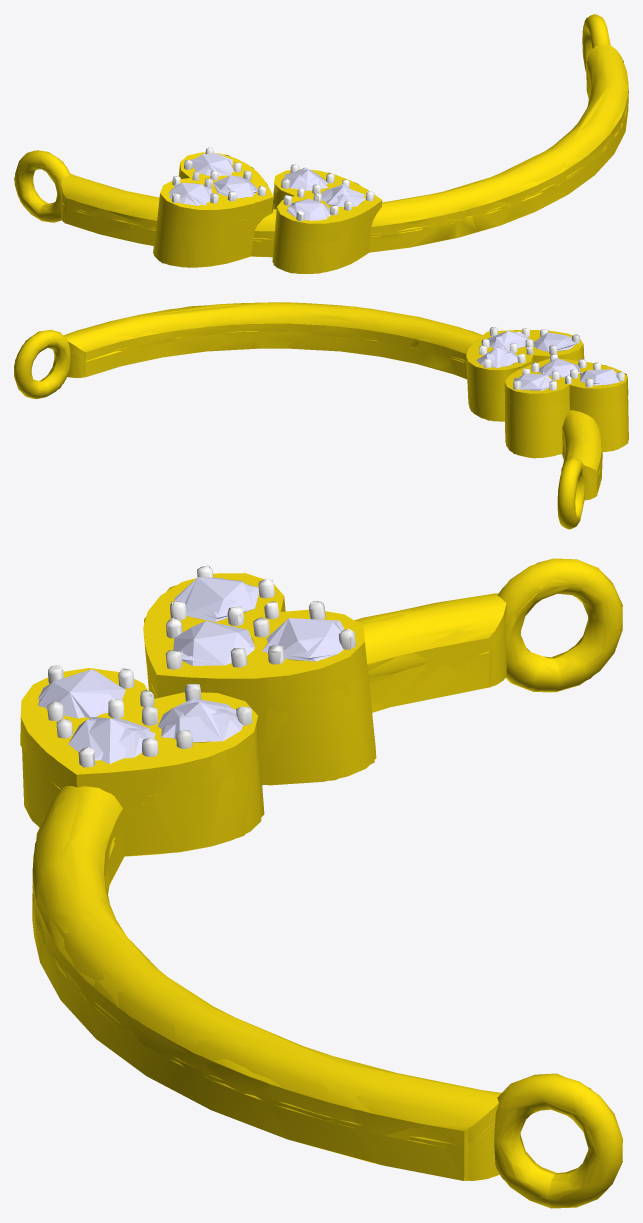
The model's file is DCP-D000587369.glb.
3 renders of one model, top to bottom at view 1: azimuth 30°, elevation 25°; view 2: azimuth 150°, elevation 25°; view 3: azimuth 270°, elevation 25°, orthographic. The views are drawn at different scales.
Visible parts, largest first — view 1: highPolyMesh, lowPolyMesh; view 2: lowPolyMesh, highPolyMesh; view 3: highPolyMesh, lowPolyMesh.
Part boxes in pixels (<box>): highPolyMesh: <box>14,14,628,273</box>; lowPolyMesh: <box>14,14,628,273</box>; lowPolyMesh: <box>15,302,628,529</box>; highPolyMesh: <box>14,302,628,529</box>; highPolyMesh: <box>20,558,622,1208</box>; lowPolyMesh: <box>20,558,622,1203</box>.
Bounding box in the file's own units: 0.0272 × 0.00382 × 0.0127.
